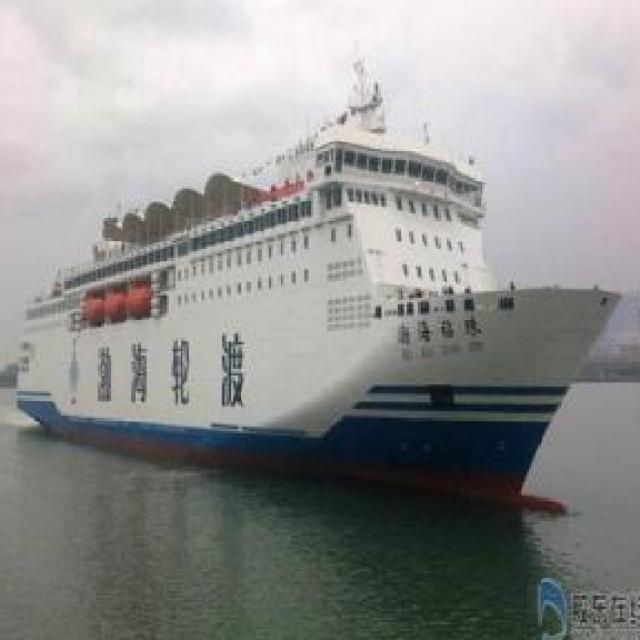passenger ship: (20, 100, 619, 500)
